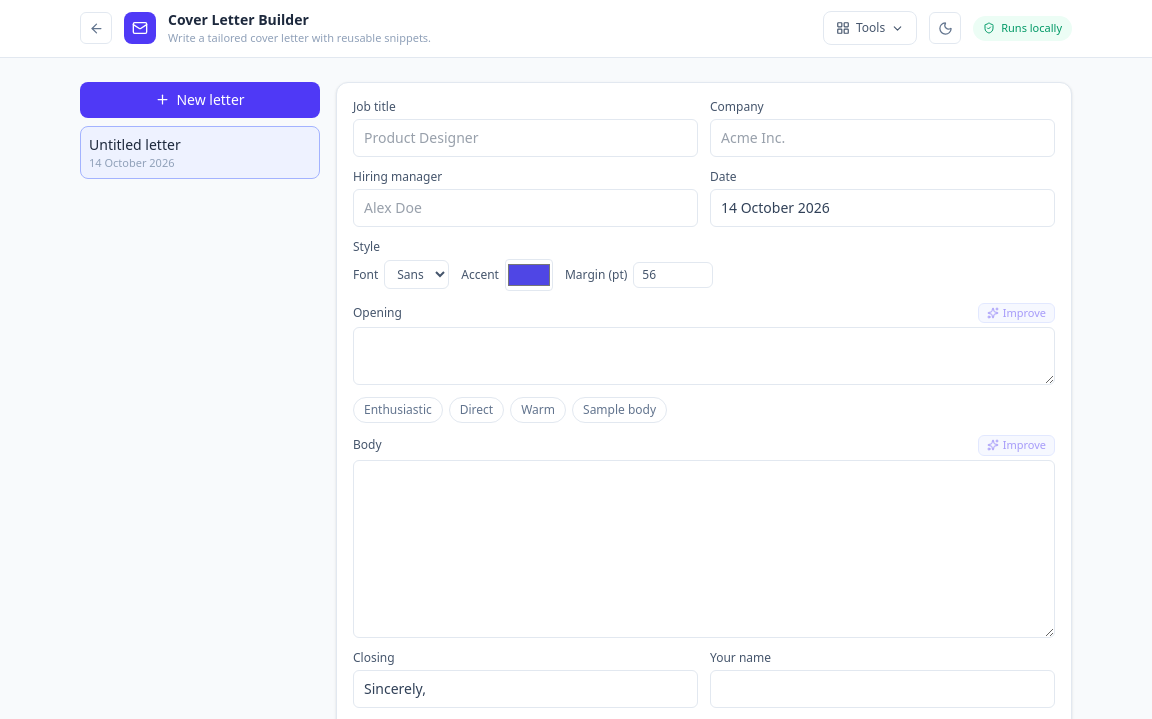
it: CoverLetterApp › applies a tone snippet to the opening
Type "Acme" into the field labelled "Company" at (882, 138), box [710,118,1055,156]
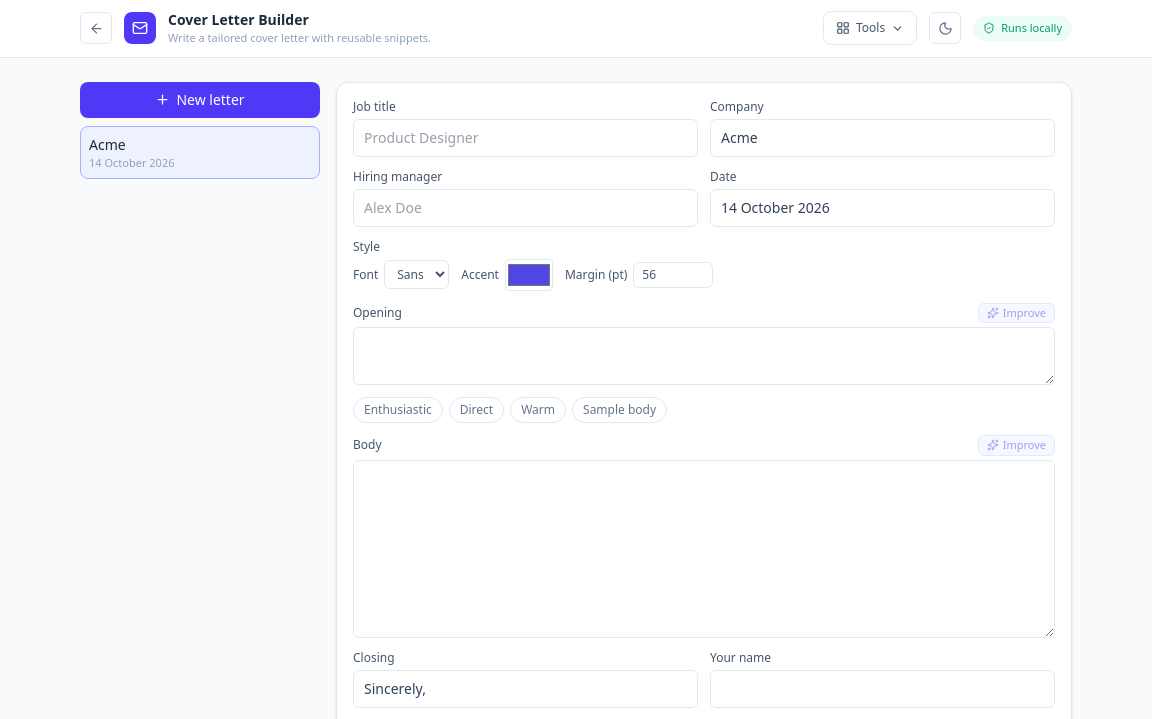
Click the button "Direct" at (476, 410), box [449,397,504,423]
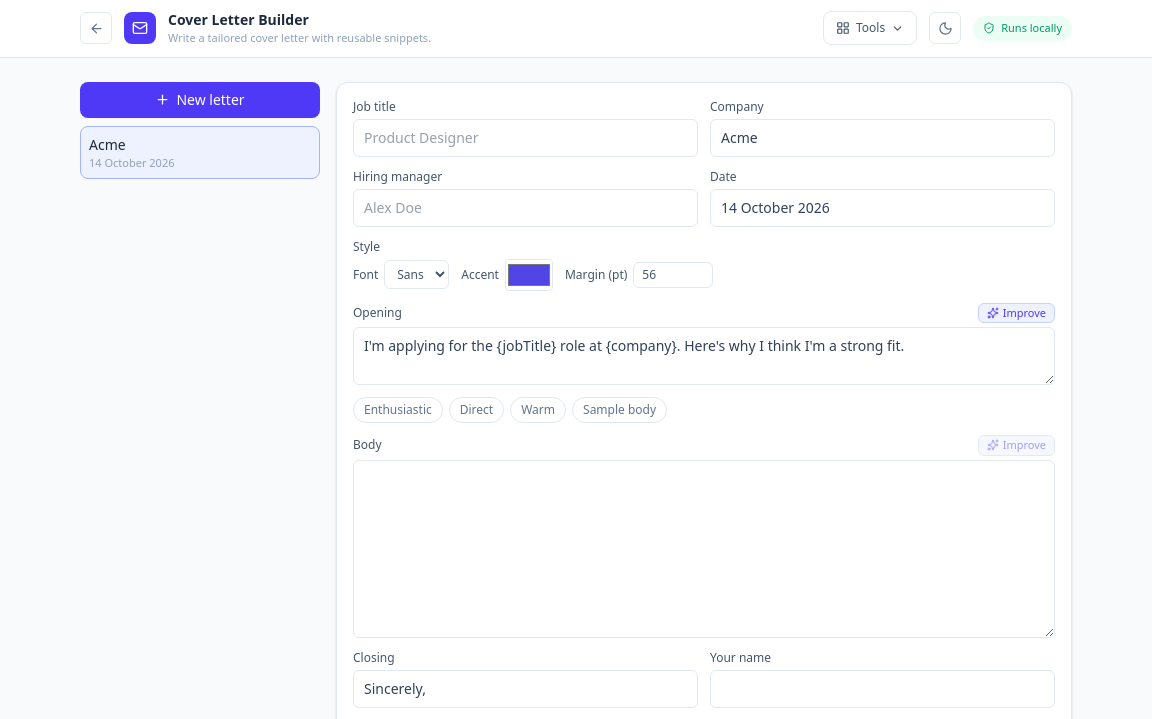
Now the text box named "Opening" holds "I'm applying for the {jobTitle} role at {company}. Here's why I think I'm a strong fit.", box [353,327,1055,385]
